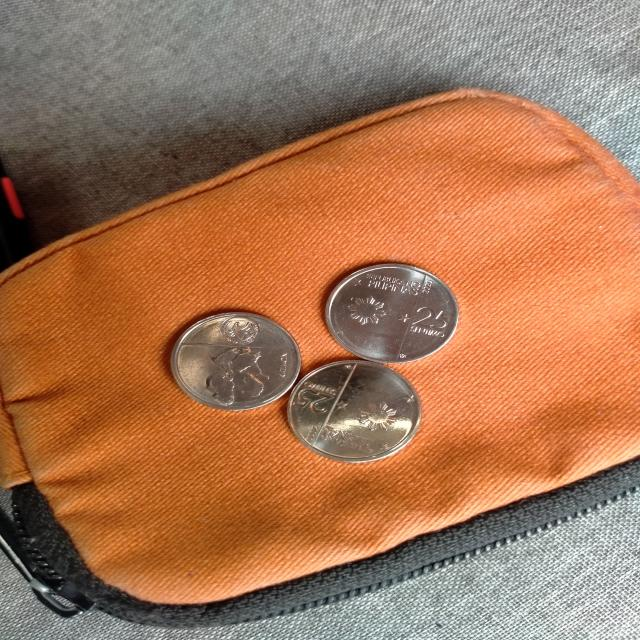25Cent_New_Back: (198, 348, 276, 402)
25Cent_New_Front: (409, 300, 451, 344), (297, 376, 340, 418)
